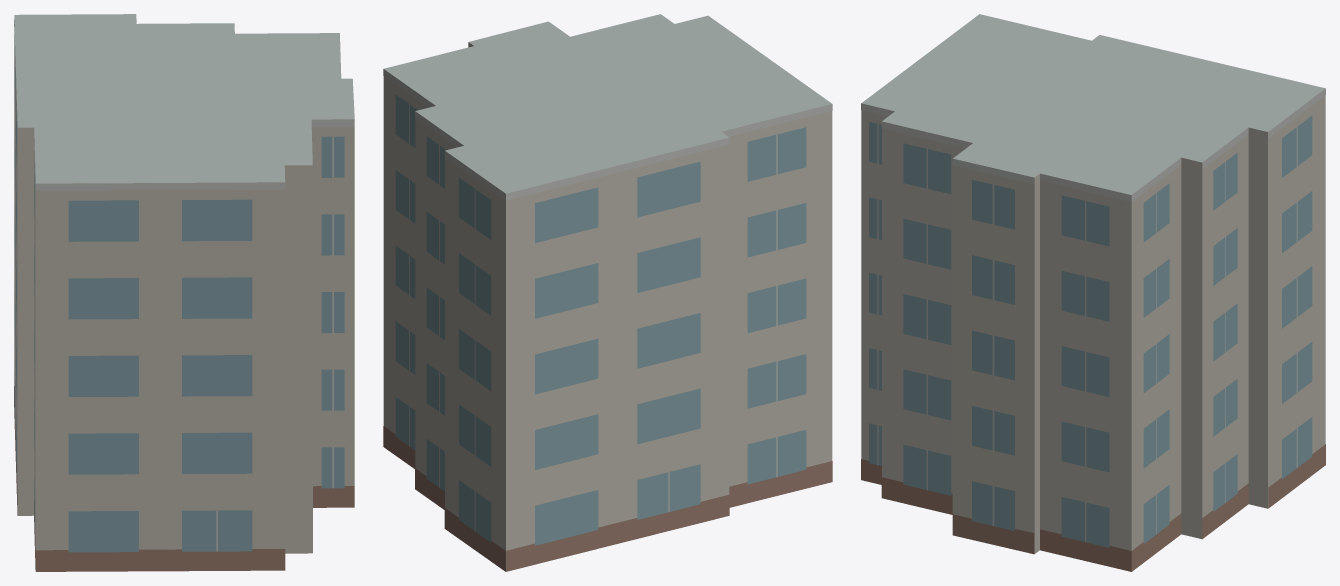
Rendered from survey-upis-32580565.glb.
The picture shows the model from 3 angles, left to right: view 1: azimuth 30°, elevation 25°; view 2: azimuth 150°, elevation 25°; view 3: azimuth 270°, elevation 25°; orthographic projection. The views are drawn at different scales.
Parts seen in each view (by area): view 1: survey-upis-32580565.tmp; view 2: survey-upis-32580565.tmp; view 3: survey-upis-32580565.tmp.
Part boxes in pixels (x1,y1,x2,y2): survey-upis-32580565.tmp: [14, 14, 354, 571]; survey-upis-32580565.tmp: [383, 14, 832, 571]; survey-upis-32580565.tmp: [861, 14, 1325, 571].
Size of the model in its own units: 13.52 by 13.1 by 14.65.
